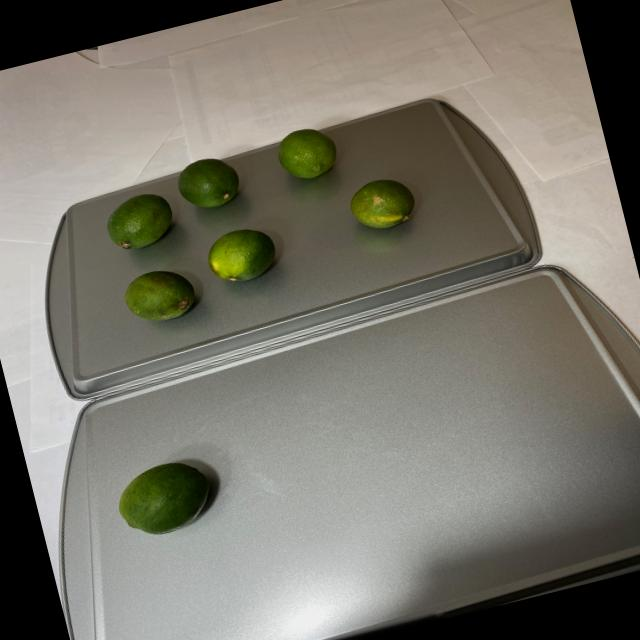lemon: (77, 110, 440, 336), (110, 452, 222, 545)
